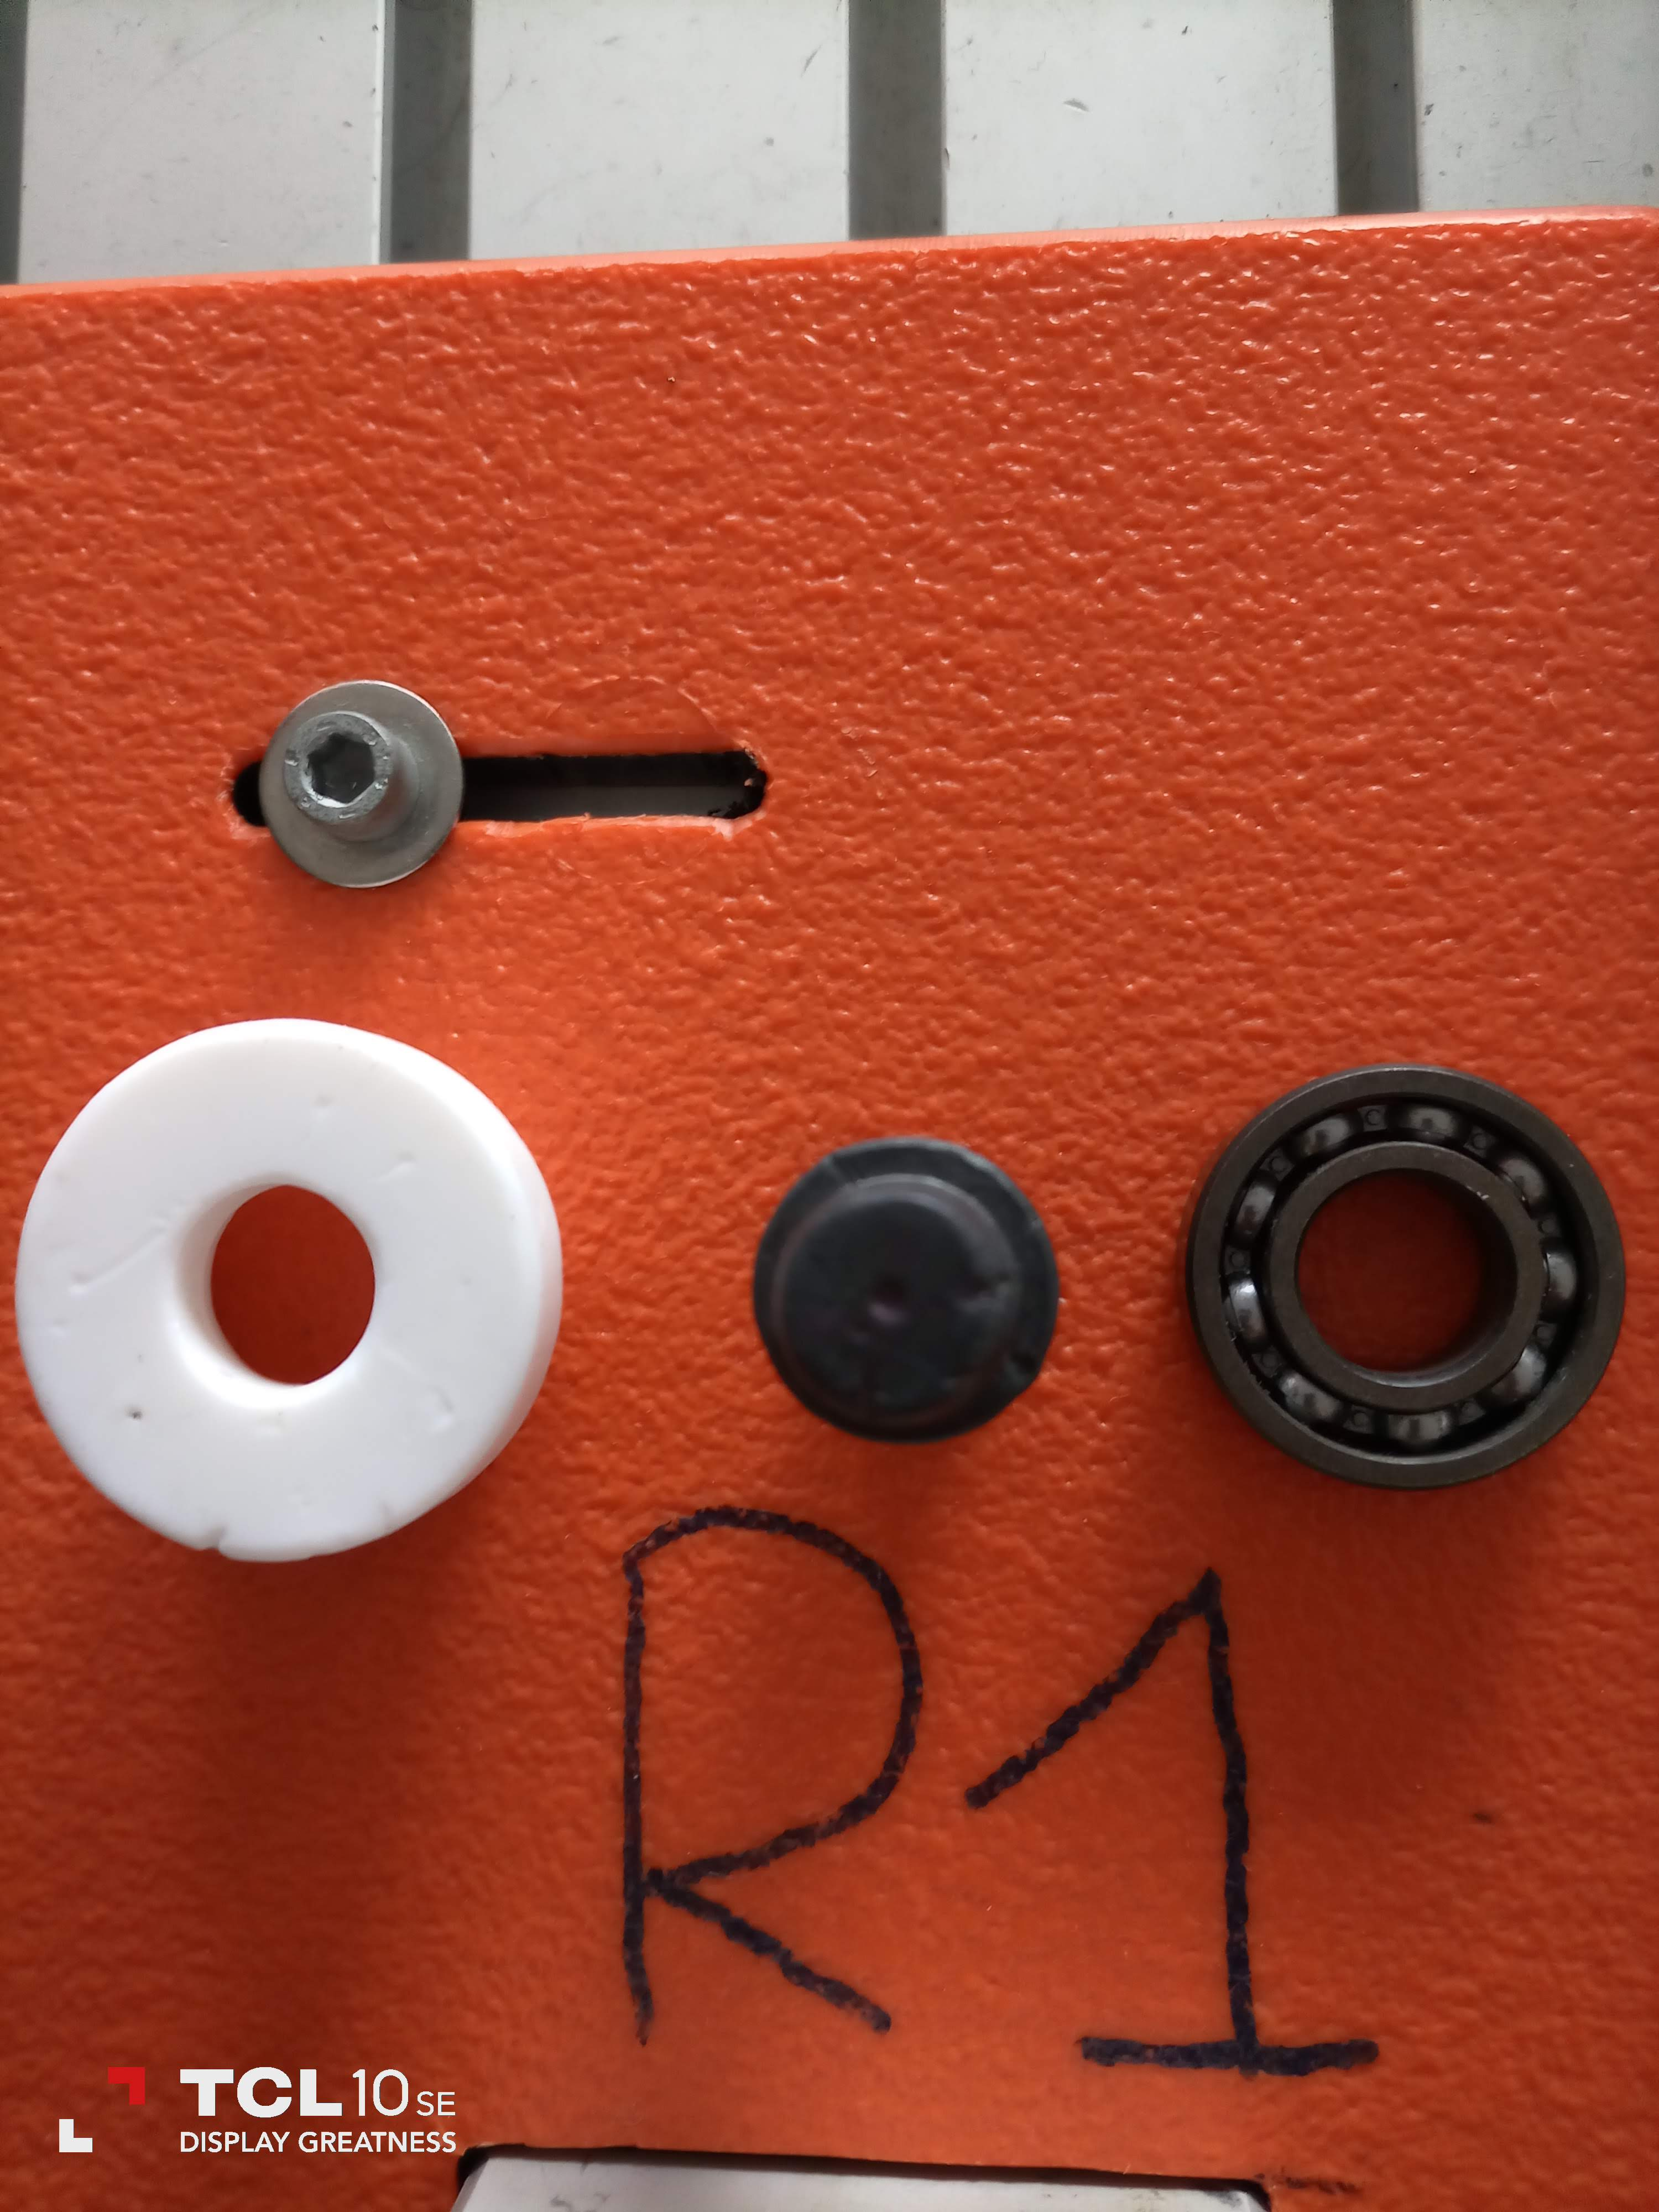Ardatza: (748, 1146, 1058, 1440)
Roda: (1183, 1050, 1615, 1508)
Tapa: (14, 1007, 575, 1566)
